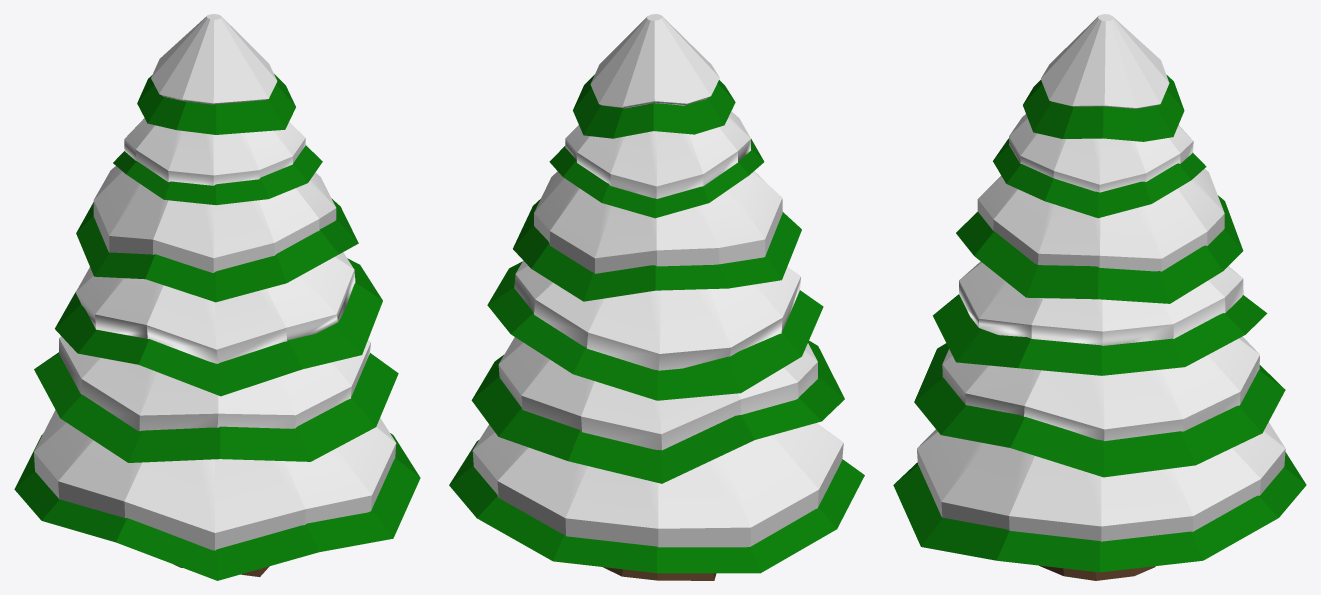
Rendered from snowtree.fbx.
3 views of the same model, side by side, from view 1: azimuth 30°, elevation 25°; view 2: azimuth 150°, elevation 25°; view 3: azimuth 270°, elevation 25° (orthographic). The views are drawn at different scales.
Visible parts, largest first — view 1: snowtree; view 2: snowtree; view 3: snowtree.
Boxes of the visible parts, x1=… form: snowtree: x1=14, y1=14, x2=420, y2=580; snowtree: x1=449, y1=14, x2=864, y2=580; snowtree: x1=893, y1=14, x2=1306, y2=580.
Size of the model in its own units: 455 by 651 by 455.
